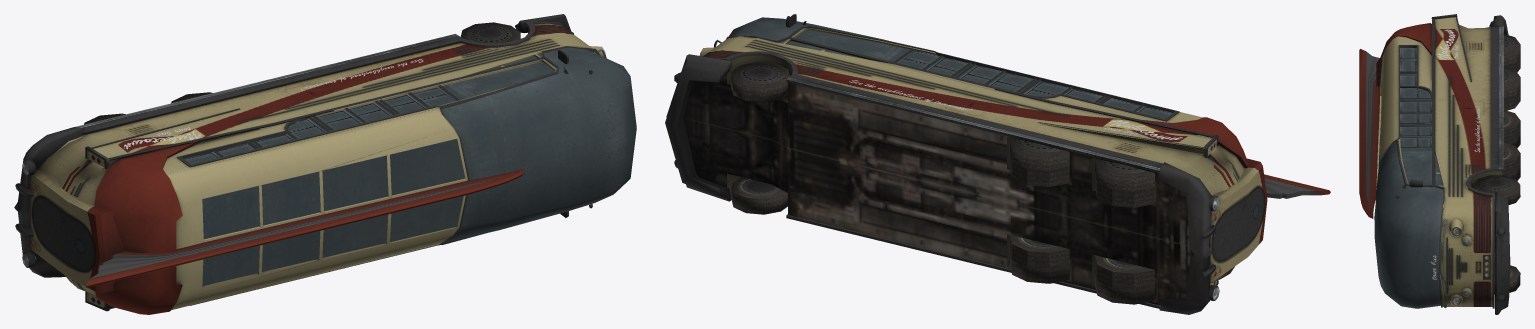
Rendered from nt_2020_tour_bus_LOD2.obj.
3 views of the same model, side by side, from view 1: azimuth 30°, elevation 25°; view 2: azimuth 150°, elevation 25°; view 3: azimuth 270°, elevation 25° (orthographic). The views are drawn at different scales.
Visible parts, largest first — view 1: mtl_nt_2020_tour_bus_body, mtl_nt_2020_tour_bus_window, mtl_nt_2020_tour_bus_fin, mtl_nt_2020_tour_bus_tires, mtl_nt_2020_tour_bus_text_decal; view 2: mtl_nt_2020_tour_bus_body, mtl_nt_2020_tour_bus_tires, mtl_nt_2020_tour_bus_window, mtl_nt_2020_tour_bus_fin, mtl_nt_2020_tour_bus_text_decal; view 3: mtl_nt_2020_tour_bus_body, mtl_nt_2020_tour_bus_window, mtl_nt_2020_tour_bus_tires, mtl_nt_2020_tour_bus_fin, mtl_nt_2020_tour_bus_text_decal.
Boxes of the visible parts, left/top/right/bottom form: mtl_nt_2020_tour_bus_body: left=14, top=14, right=606, bottom=314; mtl_nt_2020_tour_bus_window: left=184, top=47, right=636, bottom=285; mtl_nt_2020_tour_bus_fin: left=86, top=169, right=524, bottom=287; mtl_nt_2020_tour_bus_tires: left=84, top=22, right=520, bottom=124; mtl_nt_2020_tour_bus_text_decal: left=124, top=59, right=423, bottom=149; mtl_nt_2020_tour_bus_body: left=665, top=14, right=1267, bottom=314; mtl_nt_2020_tour_bus_tires: left=731, top=62, right=1154, bottom=304; mtl_nt_2020_tour_bus_window: left=729, top=17, right=1172, bottom=118; mtl_nt_2020_tour_bus_fin: left=1264, top=174, right=1330, bottom=198; mtl_nt_2020_tour_bus_text_decal: left=849, top=80, right=1182, bottom=139; mtl_nt_2020_tour_bus_body: left=1375, top=14, right=1510, bottom=314; mtl_nt_2020_tour_bus_window: left=1374, top=48, right=1444, bottom=308; mtl_nt_2020_tour_bus_tires: left=1473, top=34, right=1520, bottom=294; mtl_nt_2020_tour_bus_fin: left=1359, top=49, right=1379, bottom=218; mtl_nt_2020_tour_bus_text_decal: left=1430, top=29, right=1481, bottom=279.
Size of the model in its own units: 1229 by 325 by 379.
